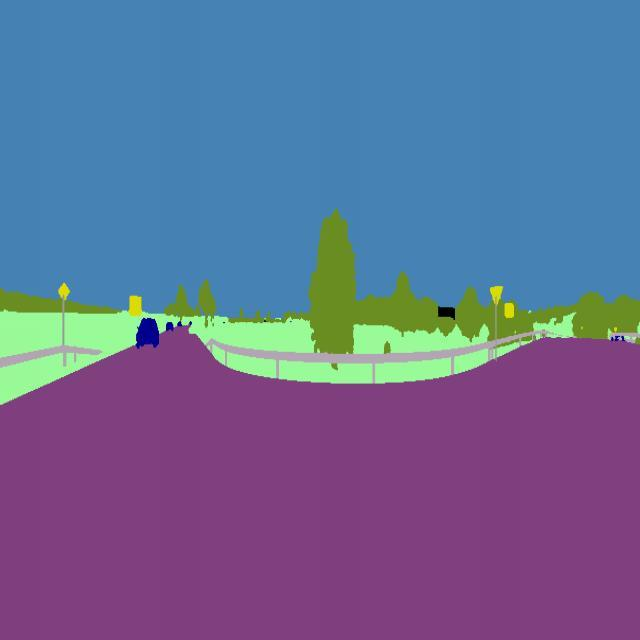safe: (131, 312, 162, 354), (166, 317, 175, 338)
